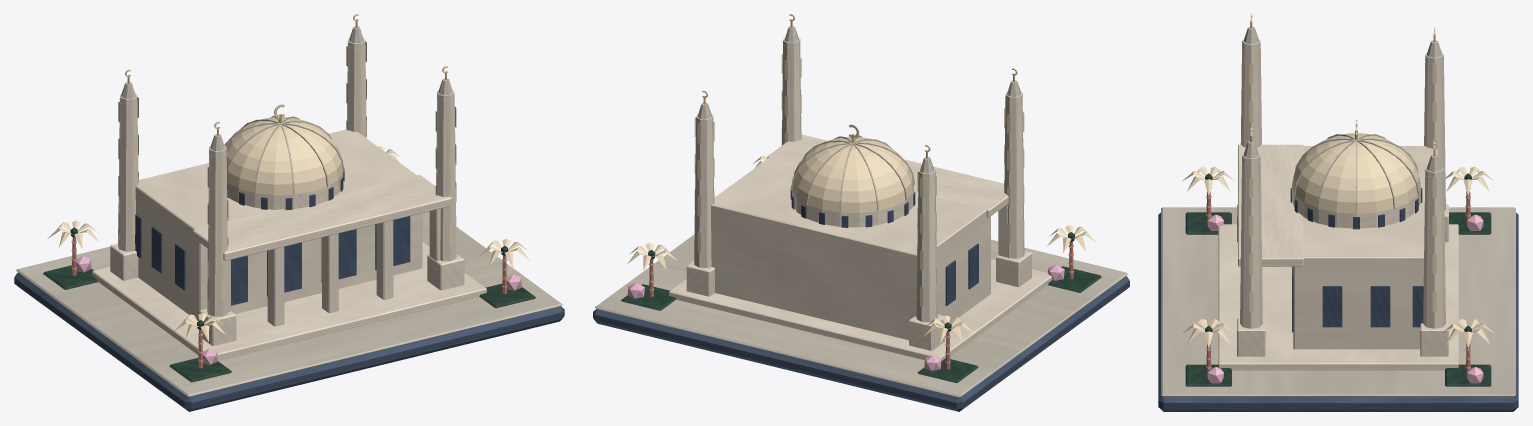
Rendered from hassan-sharbatly-mosque-diorama.glb.
3 renders of one model, left to right at view 1: azimuth 30°, elevation 25°; view 2: azimuth 150°, elevation 25°; view 3: azimuth 270°, elevation 25°, orthographic. The views are drawn at different scales.
Parts seen in each view (by area): view 1: hassan-sharbatly-mosque; view 2: hassan-sharbatly-mosque; view 3: hassan-sharbatly-mosque.
Boxes of the visible parts, bbox=[...] form: hassan-sharbatly-mosque: bbox=[14, 14, 564, 411]; hassan-sharbatly-mosque: bbox=[593, 14, 1129, 411]; hassan-sharbatly-mosque: bbox=[1158, 14, 1518, 411].
Size of the model in its own units: 15 by 9.1 by 12.
Materials: 1 (1 with a texture image).
